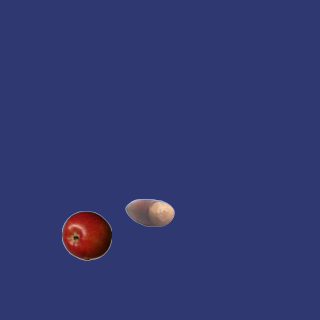Apple Braeburn: (61, 210, 111, 260)
Hazelnut: (124, 187, 174, 237)
